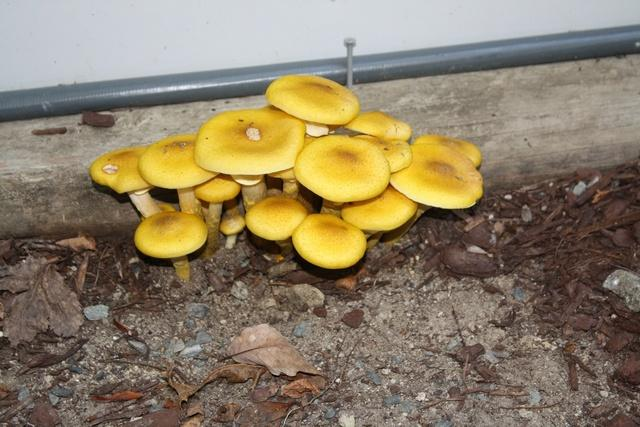Edible Mushroom: (89, 72, 484, 278)
